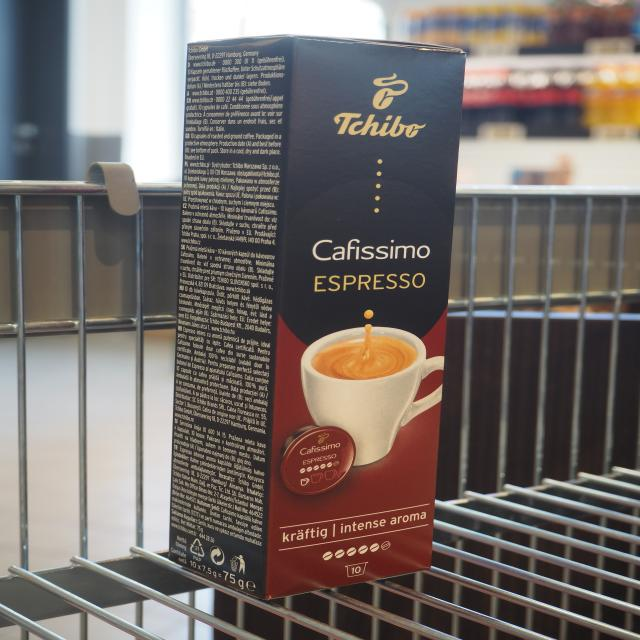Simo Es Kraft: (261, 30, 471, 605)
